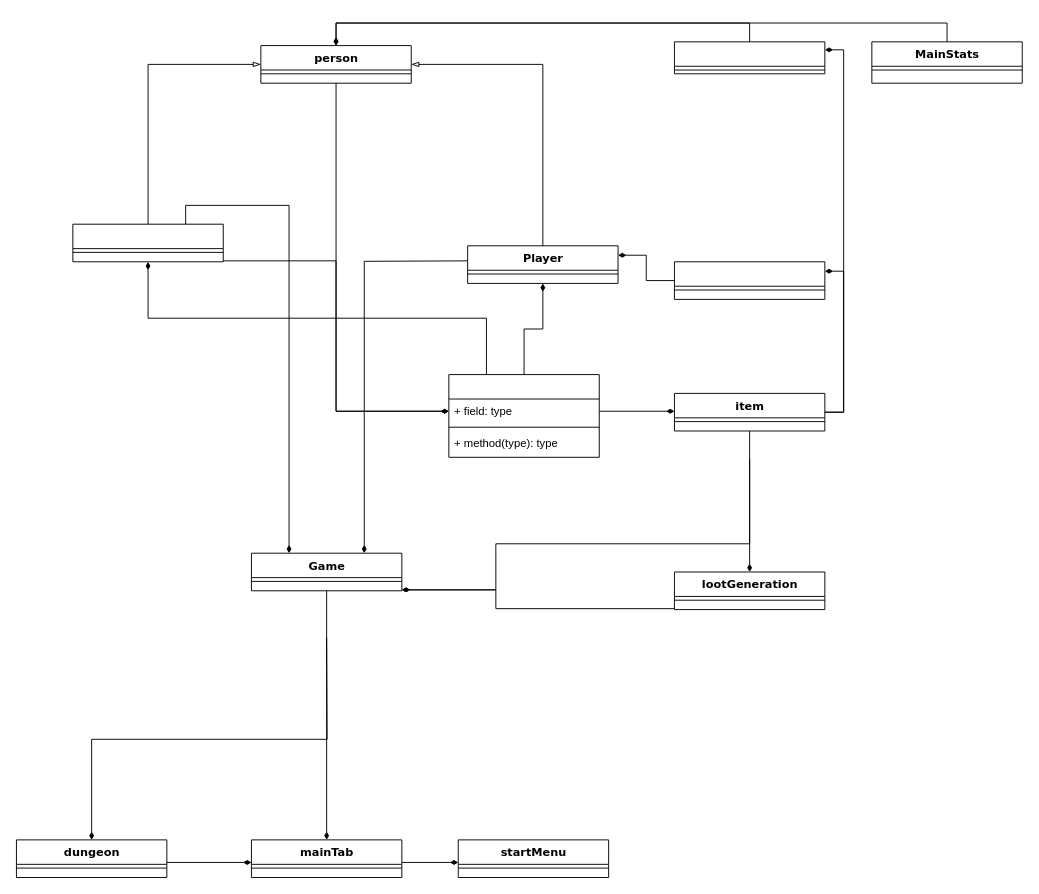
This 1039x894 diagram has some shape labels left out. The box of each missing label's shape, as (x1, y1, x2, y2) in pixels:
Allspell: (448, 374, 599, 457)
bagItem: (674, 261, 825, 299)
enemyHero: (72, 223, 223, 262)
equipment: (674, 41, 825, 74)
